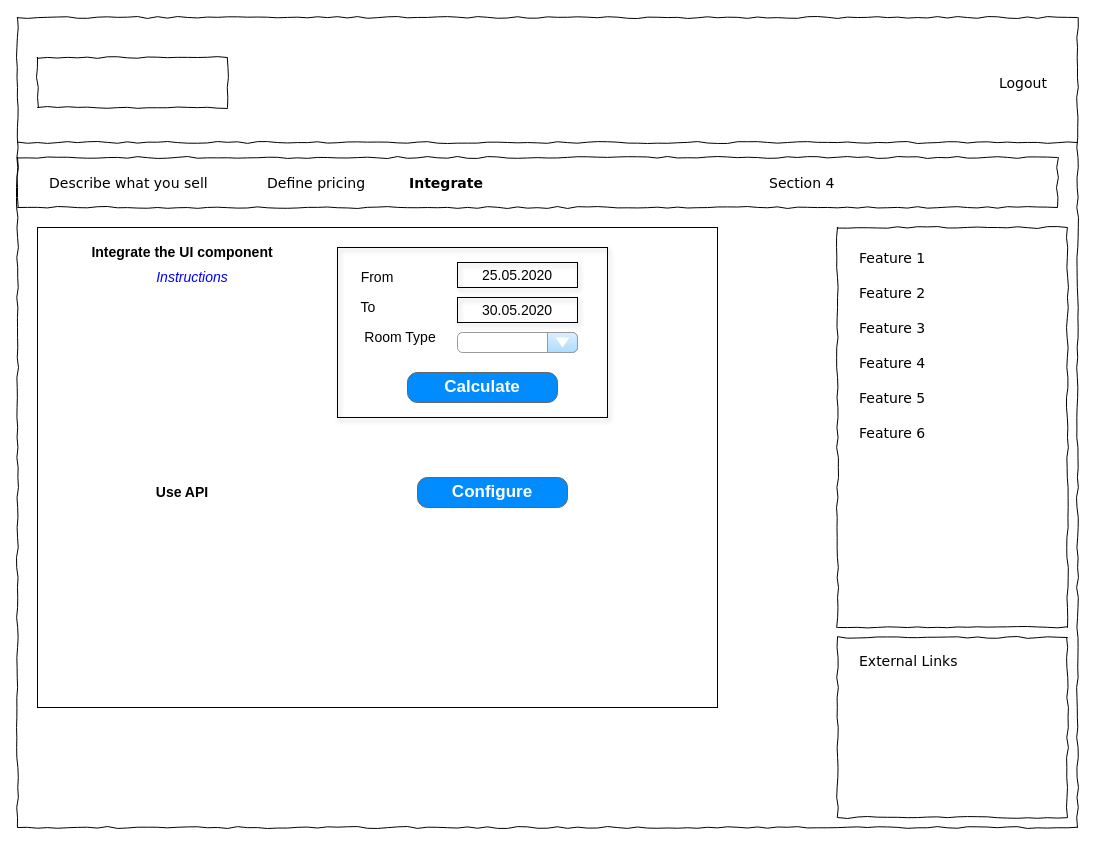
This 1095x845 diagram has some shape labels left out. Each missing label, with the centre of its shape:
"Deluxe" goes at point 517,342.
"LOGO" goes at point 132,82.
